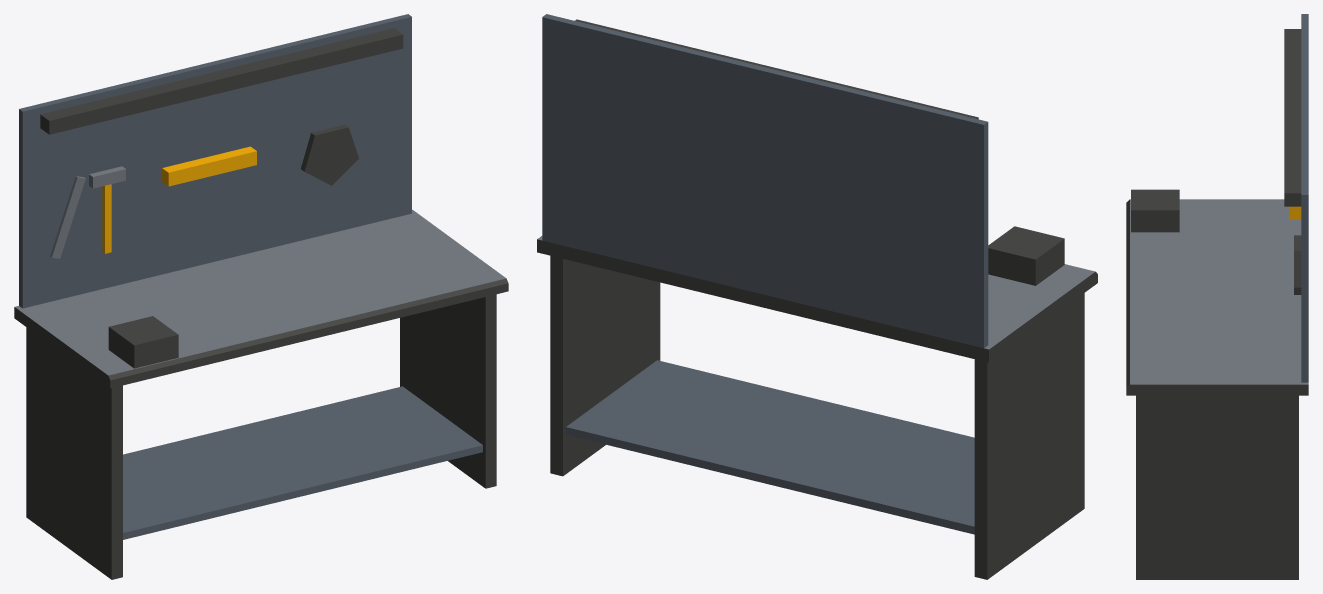
The model's file is workbench.glb.
The picture shows the model from 3 angles, left to right: view 1: azimuth 30°, elevation 25°; view 2: azimuth 150°, elevation 25°; view 3: azimuth 270°, elevation 25°; orthographic projection. The views are drawn at different scales.
Visible parts, largest first — view 1: workbench; view 2: workbench; view 3: workbench.
Part boxes in pixels (x1=…): workbench: x1=14, y1=14, x2=508, y2=579; workbench: x1=537, y1=14, x2=1097, y2=579; workbench: x1=1126, y1=14, x2=1308, y2=579.
Bounding box in the file's own units: 1.8 × 1.75 × 0.75.
